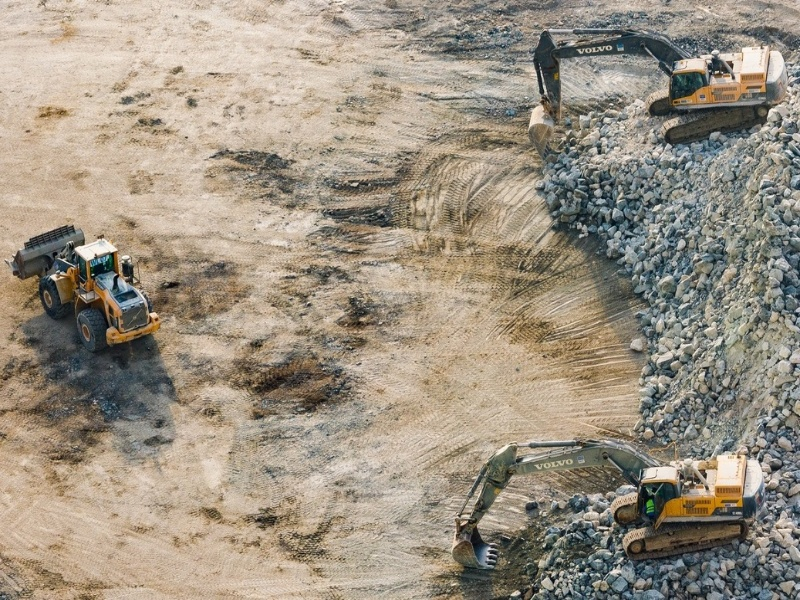excavator: (448, 437, 766, 570), (526, 25, 788, 154)
vehicle: (6, 226, 161, 354)
